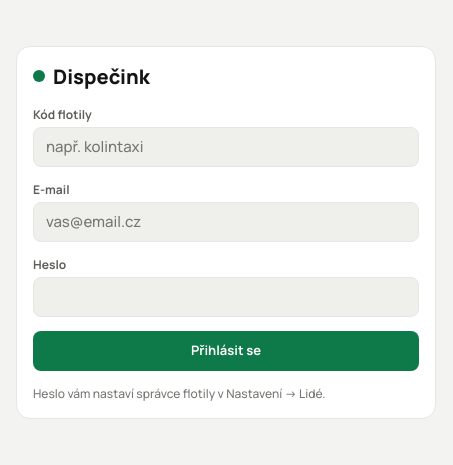
LoginPage — bad credentials › shows Czech error message when credentials are wrong
The width and height of the screenshot is (453, 465).
Note: Fill in fleet slug
Clear the field labelled "Kód flotily": (226, 146) x1=44 y1=128 x2=408 y2=166
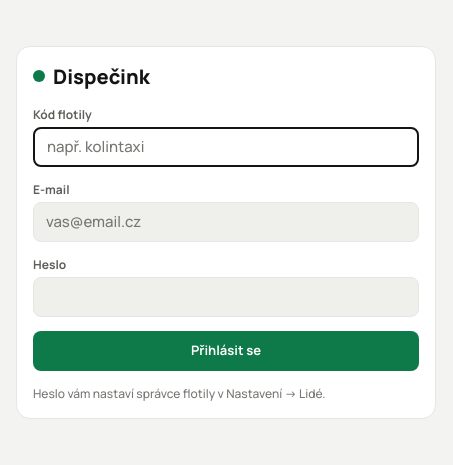
In the field labelled "Kód flotily": (226, 146) x1=45 y1=128 x2=407 y2=164, type "demo"
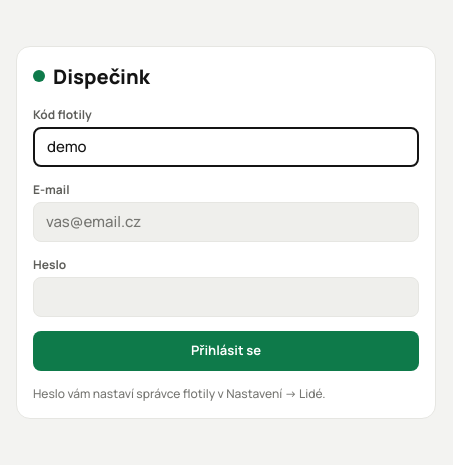
Note: Fill in email
In the field labelled "E-mail": (226, 222) x1=44 y1=202 x2=408 y2=240, type "wrong@user.cz"
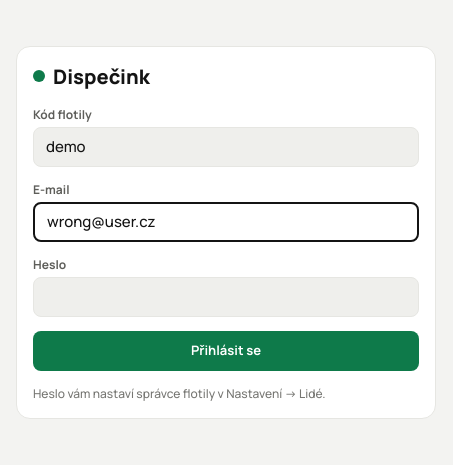
Note: Fill in password
In the password field labelled "Heslo": (226, 296) x1=44 y1=278 x2=408 y2=316, type "wrongpassword"
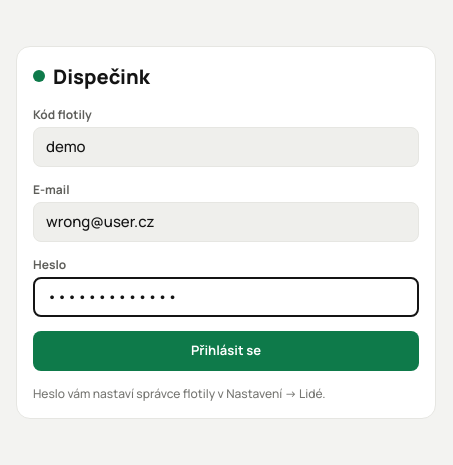
Click the button "Přihlásit se": (226, 350) x1=33 y1=330 x2=419 y2=370
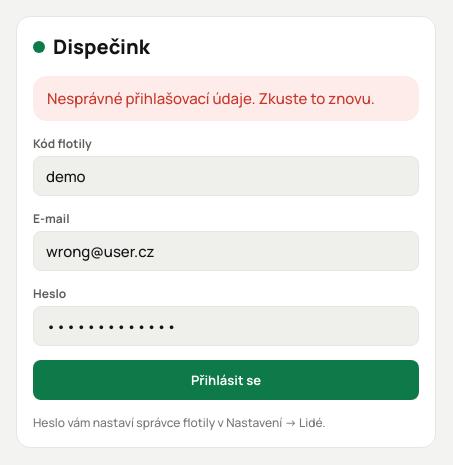
Now the message shows "Nesprávné přihlašovací údaje", box x1=47 y1=88 x2=375 y2=109
